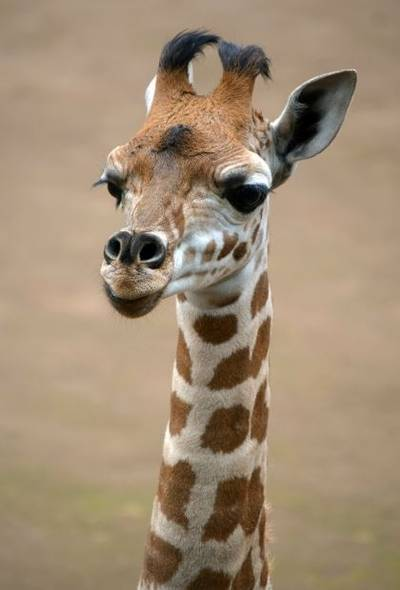Jirafa: (80, 12, 381, 429)
